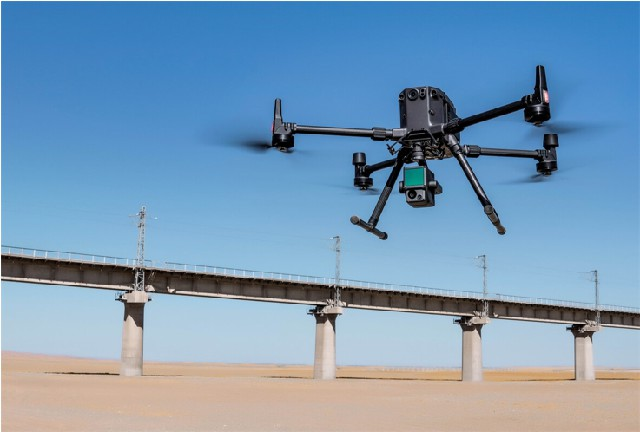maybay_khongnguoilai: (268, 71, 564, 212)
